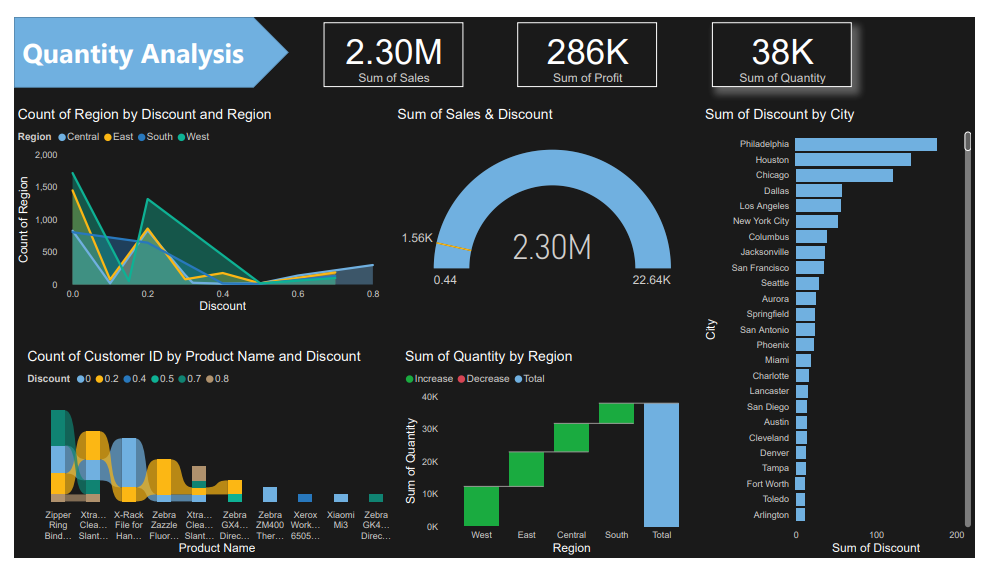

Layout of this report page (visuals, bound fields, positions):
{"tool":"powerbi","page":{"name":"Page 3","canvas":[1280,720],"ordinal":2},"visuals":[{"type":"gauge","title":"Sum of Sales & Discount","fields":{"Y":["Sum(superstore.Sales)"],"MaxValue":["Max(superstore.Sales)1"],"MinValue":["Min(superstore.Sales)"],"TargetValue":["Sum(superstore.Discount)"]},"box":[506,119.1,374.2,279.2],"z":0},{"type":"areaChart","fields":{"Category":["superstore.Discount"],"Y":["CountNonNull(superstore.Region)"],"Series":["superstore.Region"]},"box":[0,119.1,493.2,279.2],"z":1000},{"type":"ribbonChart","fields":{"Category":["superstore.Product Name"],"Y":["CountNonNull(superstore.Customer ID)"],"Series":["superstore.Discount"]},"box":[12.8,440.8,503.1,279.2],"z":2000},{"type":"clusteredBarChart","fields":{"Y":["Sum(superstore.Discount)"],"Category":["superstore.City"]},"box":[915.6,119.1,364.3,600.9],"z":3000},{"type":"shape","box":[0,0,365.7,93.5],"z":4000},{"type":"waterfallChart","fields":{"Y":["Sum(superstore.Quantity)"],"Category":["superstore.Region"]},"box":[515.9,440.8,399.7,279.2],"z":5000},{"type":"card","fields":{"Values":["Sum(superstore.Sales)"]},"box":[412.4,7.1,185.7,86.5],"z":6000},{"type":"card","fields":{"Values":["Sum(superstore.Profit)"]},"box":[670.4,7.1,185.7,86.5],"z":7000},{"type":"card","fields":{"Values":["Sum(superstore.Quantity)"]},"box":[929.8,7.1,185.7,86.5],"z":8000}]}

Visuals, with their boxes on the page's 1280x720 design canvas (x1, y1, x2, y2). These are canvas units, not pixel positions in the 989x574 screenshot, which may show the page scaled, cropped or inside an application window:
"Sum of Sales & Discount" gauge: 506:119:880:398
areaChart - superstore.Discount x CountNonNull(superstore.Region): 0:119:493:398
ribbonChart - superstore.Product Name x CountNonNull(superstore.Customer ID): 13:441:516:720
clusteredBarChart - Sum(superstore.Discount) x superstore.City: 916:119:1280:720
shape: 0:0:366:94
waterfallChart - Sum(superstore.Quantity) x superstore.Region: 516:441:916:720
card - Sum(superstore.Sales): 412:7:598:94
card - Sum(superstore.Profit): 670:7:856:94
card - Sum(superstore.Quantity): 930:7:1116:94
